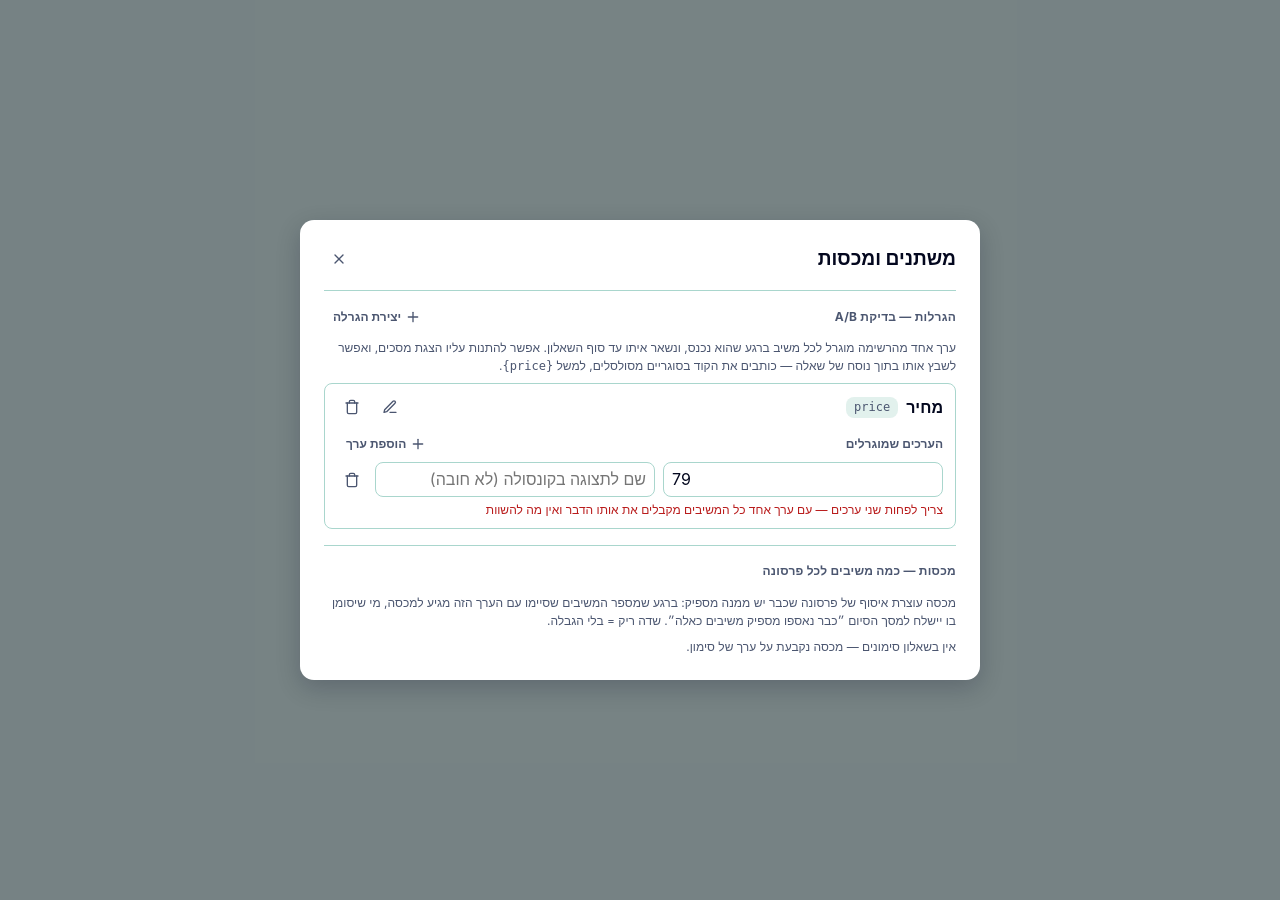
the draws section › stops warning once a second value is there
Expected: the text "צריך לפחות שני ערכים" is shown, [486,502,943,517]
Click the button "הוספת ערך".
click(386, 444)  # box [337,430,435,458]
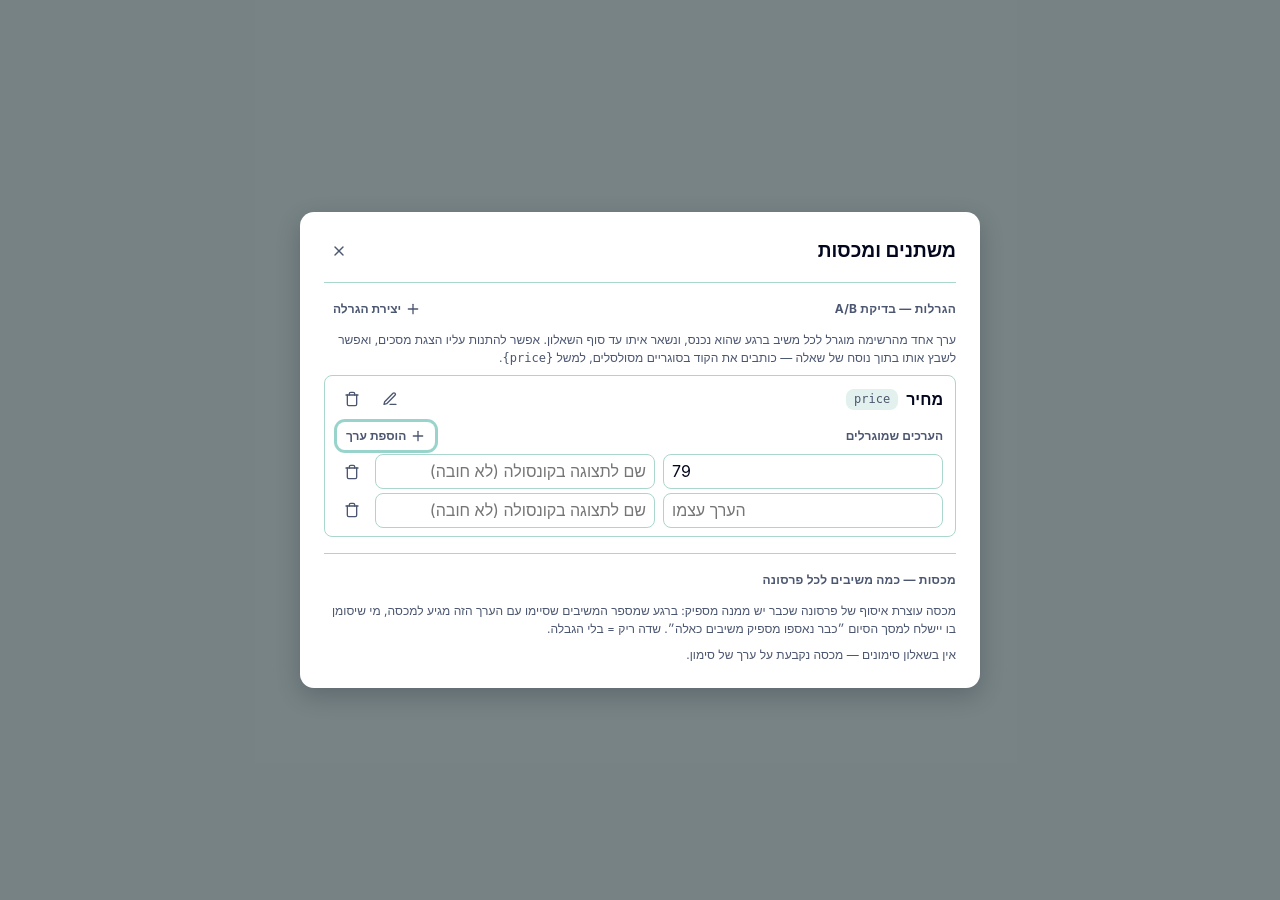
Now the text "צריך לפחות שני ערכים" is gone
